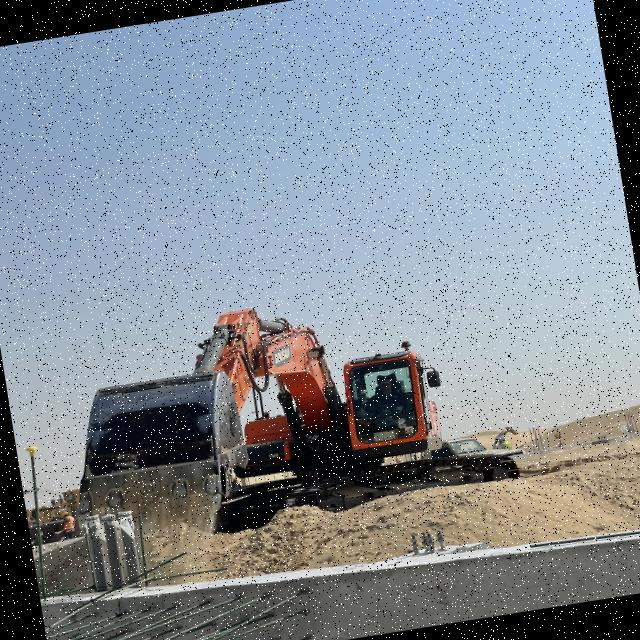Excavator: (47, 277, 472, 564)
